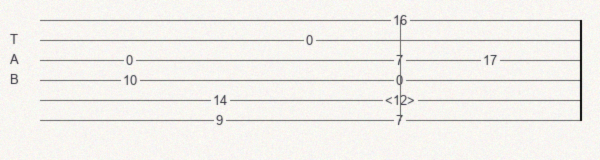0: (126, 53, 137, 67), (306, 33, 317, 47), (396, 73, 407, 87)
10: (123, 73, 141, 87)
14: (213, 93, 231, 107)
16: (393, 13, 411, 27)
17: (483, 53, 501, 67)
7: (396, 53, 407, 67), (396, 113, 407, 127)
9: (216, 113, 227, 127)
harmonic: (385, 93, 419, 107)
